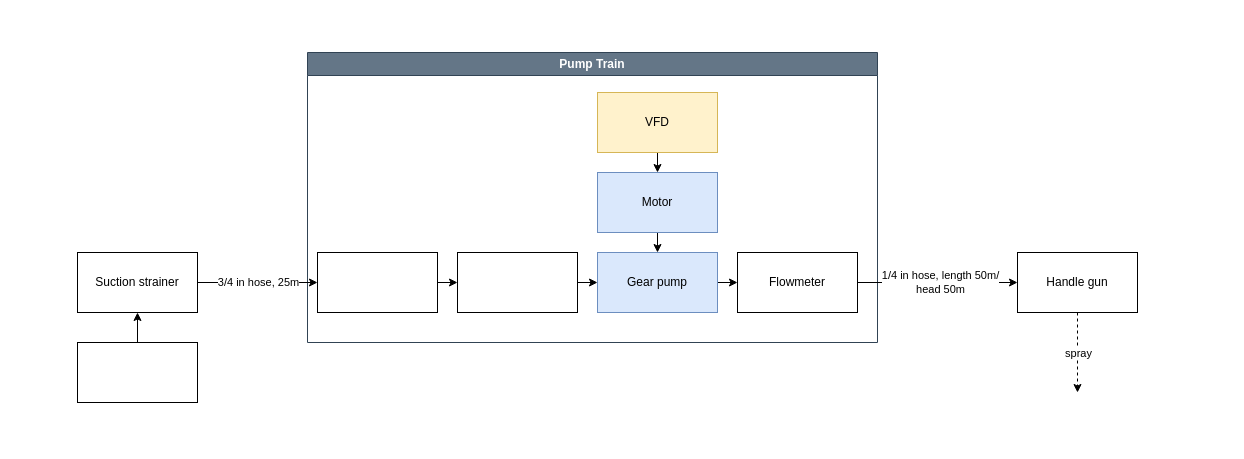
This 1244x459 diagram has some shape labels left out. The shapes that lost their labels are listed below. From the top down, each one's centre as x and y in pixels, then its label:
the point at 377,282: Ball valve
the point at 517,282: Pressure Gauge
the point at 137,372: Regeneration tank
